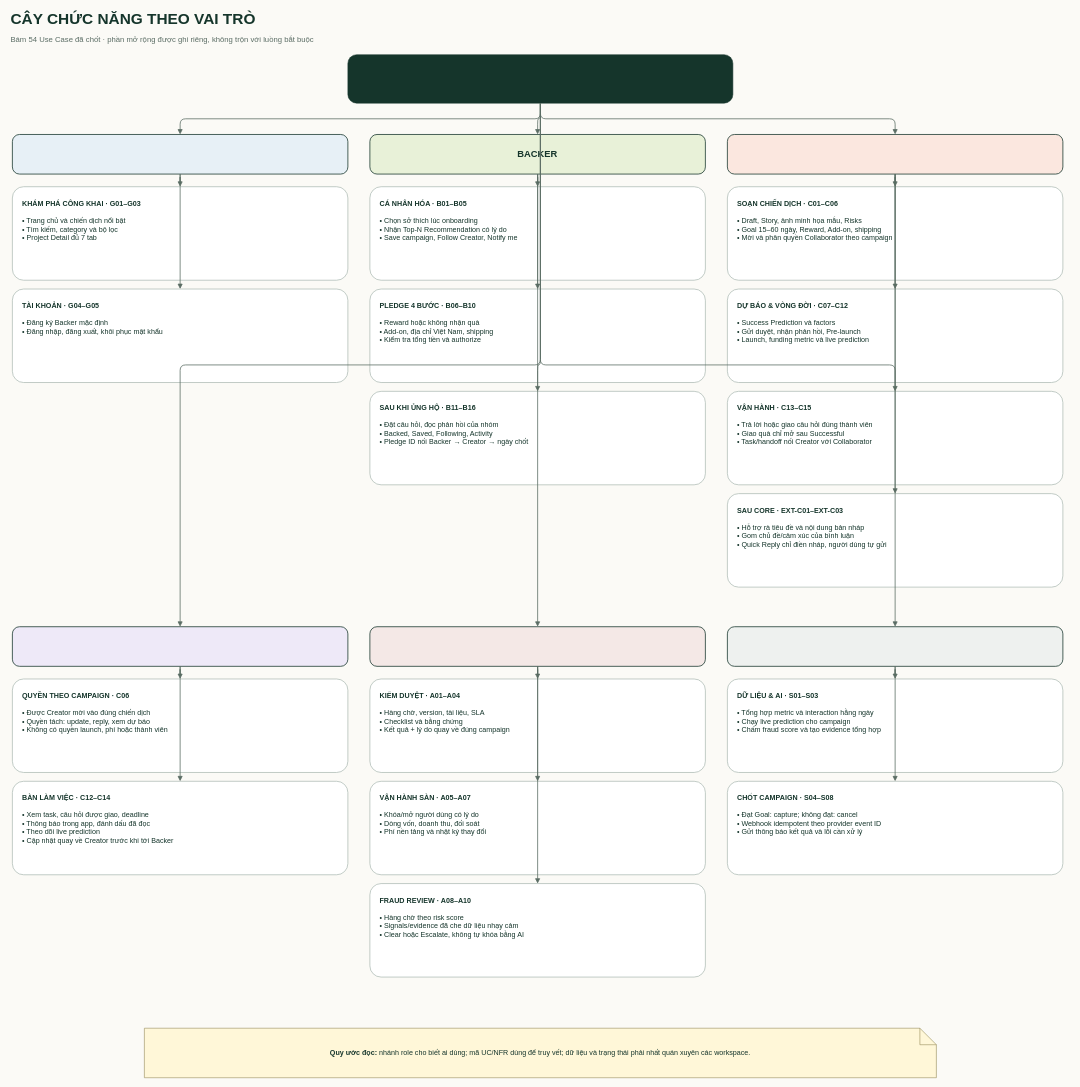
Some shapes in this 1080 by 1087 pixel diagram are drawn without their labels. The centre of each missing label's shape, as x and y in pixels:
"ADMIN" goes at (537,646).
"COLLABORATOR" goes at (180,646).
"CREATOR" goes at (895,154).
"GUEST" goes at (180,154).
"GÓP CROWDFUNDING PLATFORM Web responsive · dữ liệu VND · nhóm 2 sinh viên" goes at (540,78).
"SYSTEM / WORKER" goes at (895,646).
